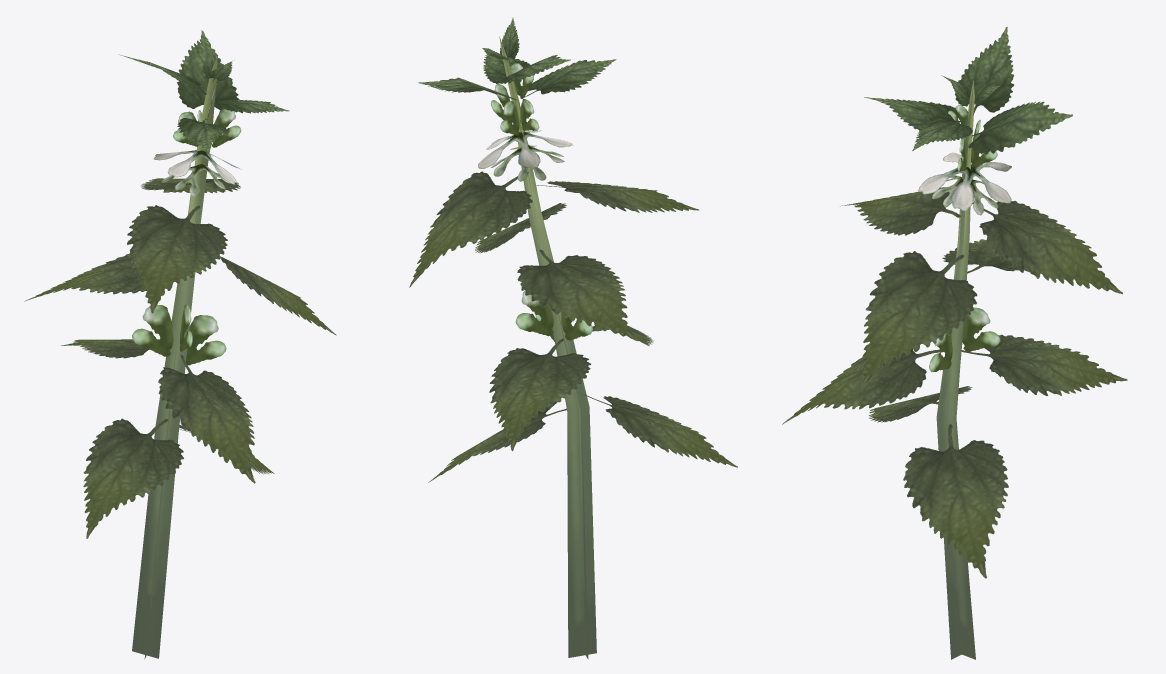
The model's file is arden_forest_nettle_02_foliage.fbx.
3 views of the same model, side by side, from view 1: azimuth 30°, elevation 25°; view 2: azimuth 150°, elevation 25°; view 3: azimuth 270°, elevation 25° (orthographic). The views are drawn at different scales.
Visible parts, largest first — view 1: arden_forest_nettle_02_foliage; view 2: arden_forest_nettle_02_foliage; view 3: arden_forest_nettle_02_foliage.
Part boxes in pixels (bbox=[...]): arden_forest_nettle_02_foliage: bbox=[24, 30, 336, 659]; arden_forest_nettle_02_foliage: bbox=[409, 17, 737, 659]; arden_forest_nettle_02_foliage: bbox=[782, 27, 1127, 659].
Size of the model in its own units: 38.31 by 74.68 by 40.02.
